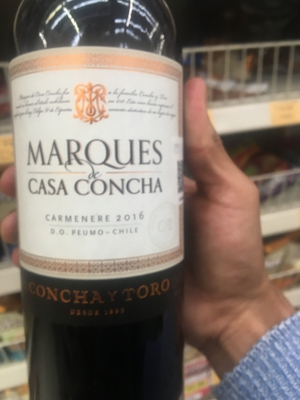marques de casa concha carmenere: (12, 6, 205, 395)
